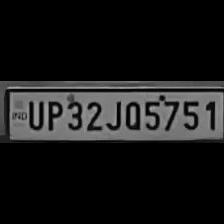1: (202, 98, 220, 130)
2: (84, 97, 103, 131)
3: (64, 97, 82, 131)
5: (178, 97, 200, 130), (142, 97, 160, 131)
7: (161, 97, 177, 131)
J: (104, 97, 122, 131)
P: (44, 97, 62, 131)
Q: (122, 97, 142, 131)
U: (24, 97, 43, 130)
